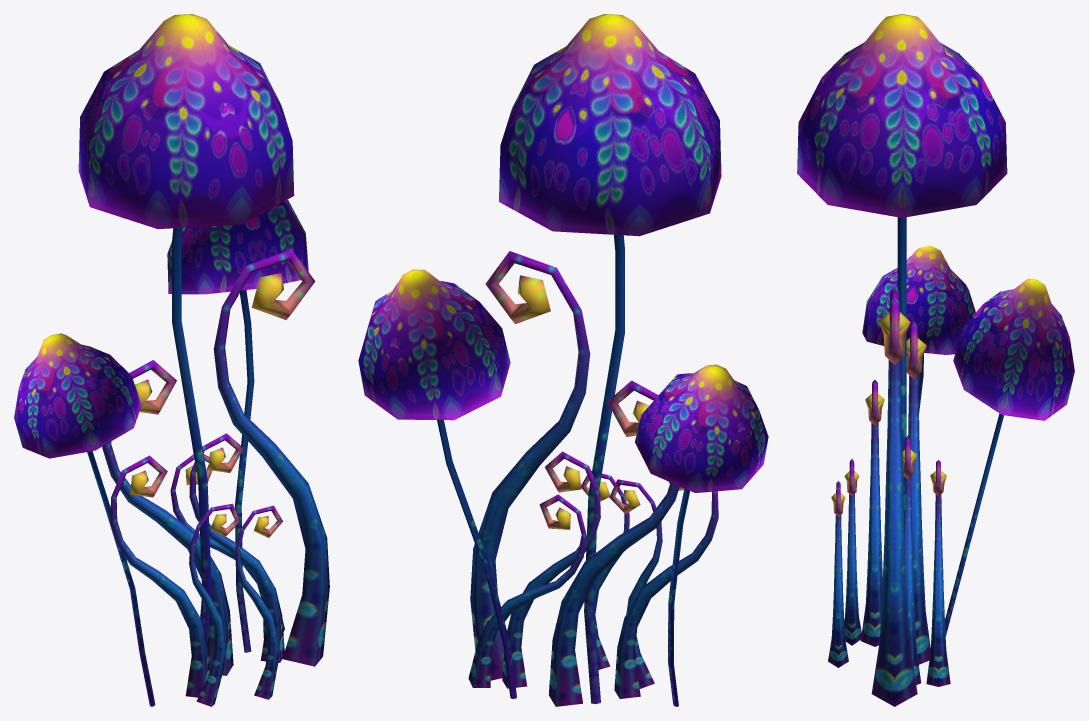
Rendered from Mushroom_04d.FBX.
3 renders of one model, left to right at view 1: azimuth 30°, elevation 25°; view 2: azimuth 150°, elevation 25°; view 3: azimuth 270°, elevation 25°, orthographic. The views are drawn at different scales.
Visible parts, largest first — view 1: Mushroom_04d; view 2: Mushroom_04d; view 3: Mushroom_04d.
Part boxes in pixels (bbox=[...]): Mushroom_04d: bbox=[14, 14, 329, 706]; Mushroom_04d: bbox=[358, 14, 768, 706]; Mushroom_04d: bbox=[797, 14, 1074, 706].
Size of the model in its own units: 188 by 366 by 146.
